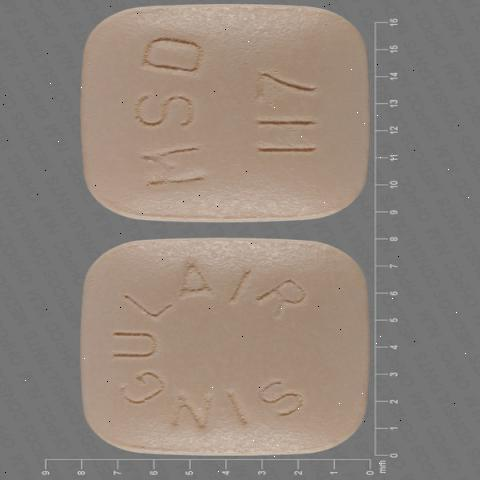Pill: (41, 232, 392, 461), (41, 8, 389, 232)
